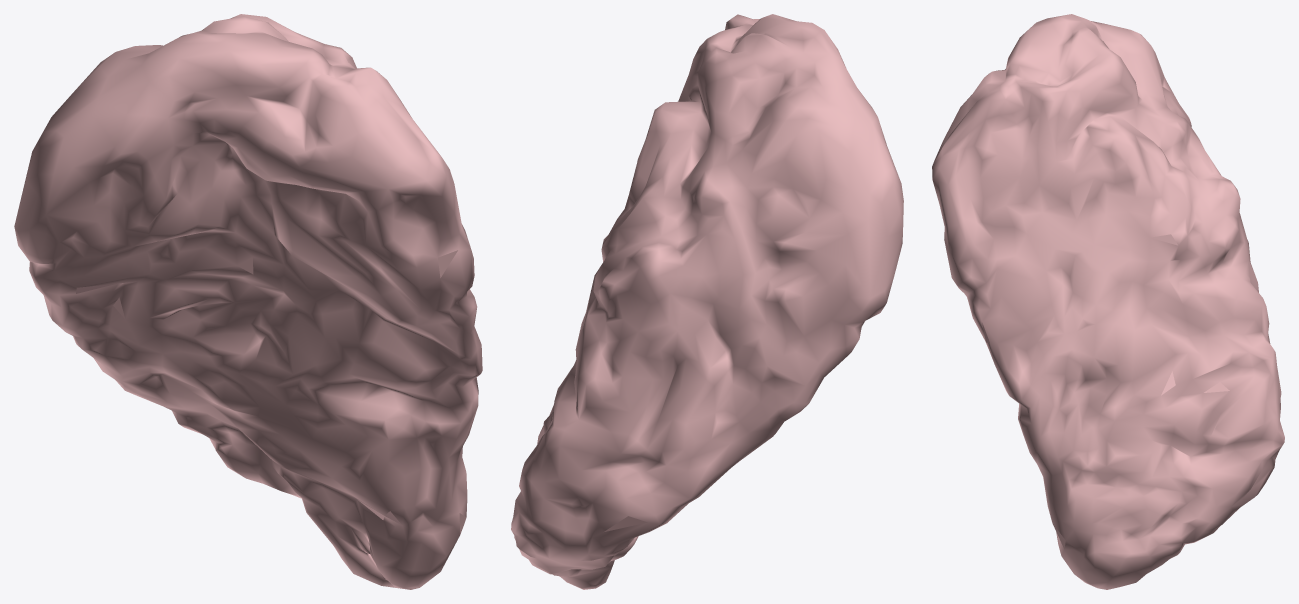
The model's file is 3d-vh-f-palatine-tonsil-l-20.glb.
3 views of the same model, side by side, from view 1: azimuth 30°, elevation 25°; view 2: azimuth 150°, elevation 25°; view 3: azimuth 270°, elevation 25° (orthographic). The views are drawn at different scales.
Parts seen in each view (by area): view 1: VH_F_palatine_tonsil_L; view 2: VH_F_palatine_tonsil_L; view 3: VH_F_palatine_tonsil_L.
Boxes of the visible parts, box(x1,y1,x2,y2) form: VH_F_palatine_tonsil_L: box(14, 14, 482, 589); VH_F_palatine_tonsil_L: box(511, 14, 903, 589); VH_F_palatine_tonsil_L: box(932, 14, 1284, 589).
Size of the model in its own units: 0.0163 by 0.0243 by 0.0159.
